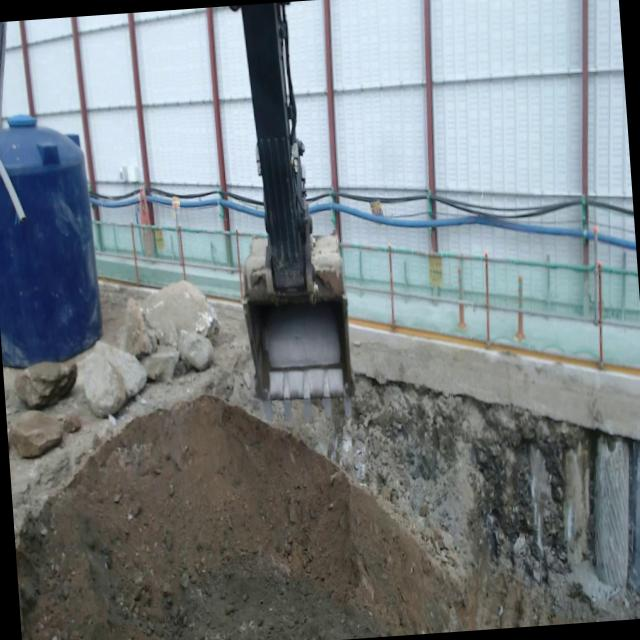red-sand: (15, 396, 619, 640)
rocks: (75, 280, 219, 416)
stone: (116, 280, 218, 357), (82, 342, 146, 415), (14, 361, 77, 409), (8, 410, 63, 458), (178, 330, 213, 370), (140, 346, 179, 381)
